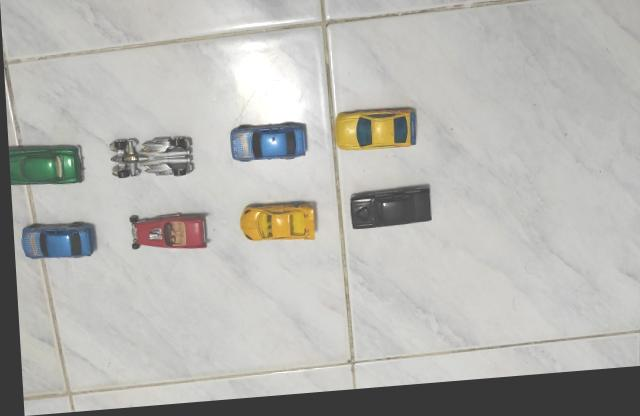01_FORD: (346, 188, 429, 235)
02_OZSOME: (331, 112, 415, 157)
03_V8: (123, 214, 207, 252)
04_MERZEDES: (225, 125, 306, 165), (17, 221, 95, 260)
05_DC121: (105, 138, 192, 180)
06_MASERATI: (7, 143, 82, 185)
07_RHLTURBO: (235, 204, 312, 246)
